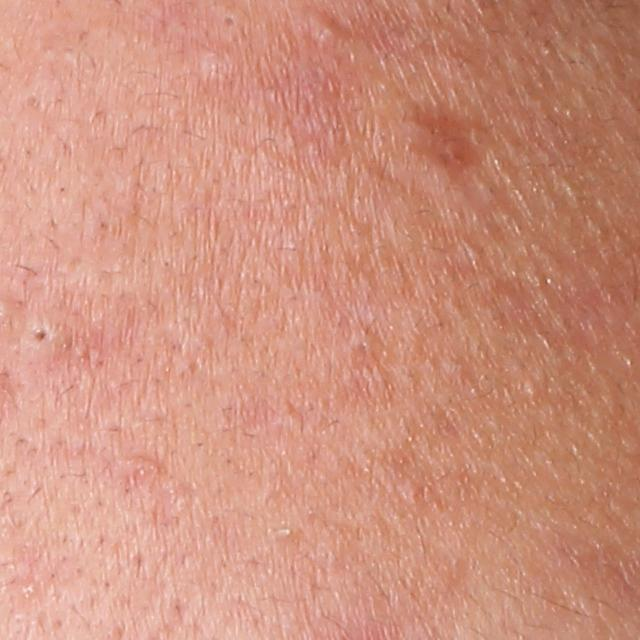atrophic_scar: (404, 101, 485, 181)
comedo: (198, 46, 221, 76), (271, 520, 297, 546), (216, 11, 245, 33), (30, 326, 55, 351), (519, 378, 543, 404)
